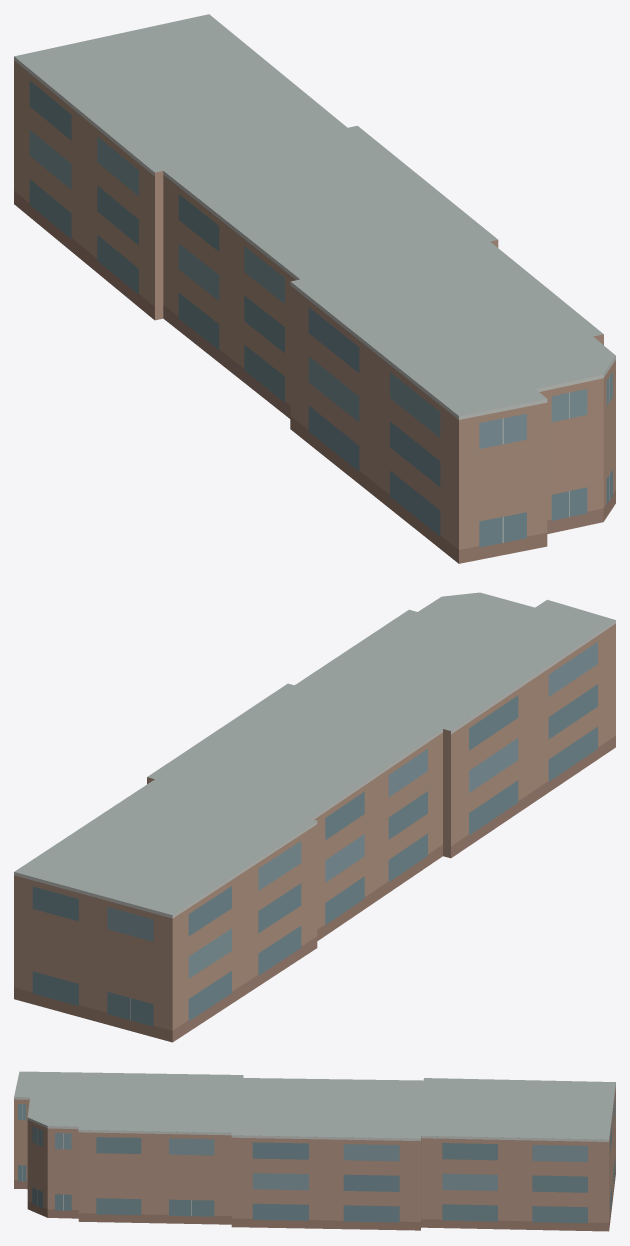
The model's file is survey-upis-32662383.glb.
The picture shows the model from 3 angles, top to bottom: view 1: azimuth 30°, elevation 25°; view 2: azimuth 150°, elevation 25°; view 3: azimuth 270°, elevation 25°; orthographic projection. The views are drawn at different scales.
Visible parts, largest first — view 1: survey-upis-32662383.tmp; view 2: survey-upis-32662383.tmp; view 3: survey-upis-32662383.tmp.
Boxes of the visible parts, x1,y1,x2,y2 form: survey-upis-32662383.tmp: (14,14,615,563); survey-upis-32662383.tmp: (14,592,615,1042); survey-upis-32662383.tmp: (14,1071,615,1231).
Size of the model in its own units: 14.56 by 9.15 by 54.35.
